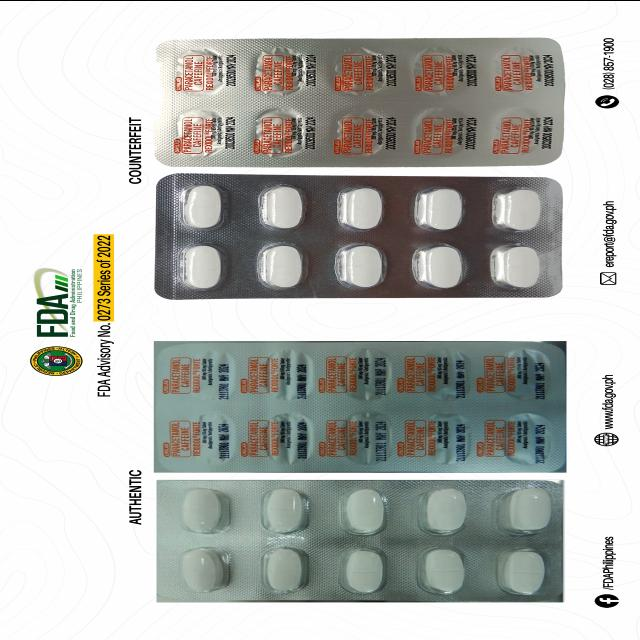authentic: (149, 341, 569, 474), (149, 478, 567, 604)
counterfeit: (158, 37, 564, 165), (152, 176, 564, 296)
